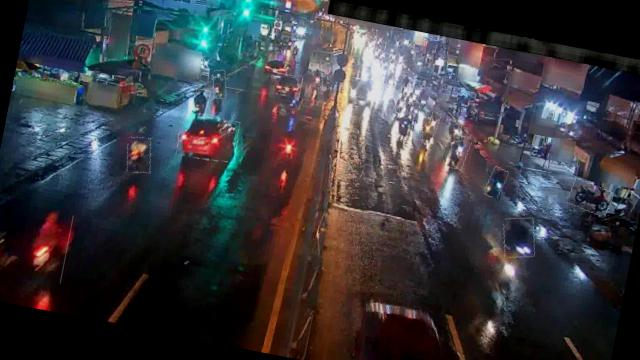Bike: (20, 207, 73, 283), (499, 214, 539, 260), (566, 180, 614, 217), (123, 135, 154, 175), (446, 134, 470, 170), (484, 166, 507, 199), (190, 88, 210, 122), (210, 68, 230, 100), (419, 116, 436, 144), (446, 118, 464, 142), (396, 116, 414, 138), (310, 66, 324, 89), (410, 102, 423, 124), (428, 112, 440, 133), (394, 93, 406, 112)
Car: (175, 112, 241, 165), (270, 72, 302, 102), (348, 77, 378, 108)
